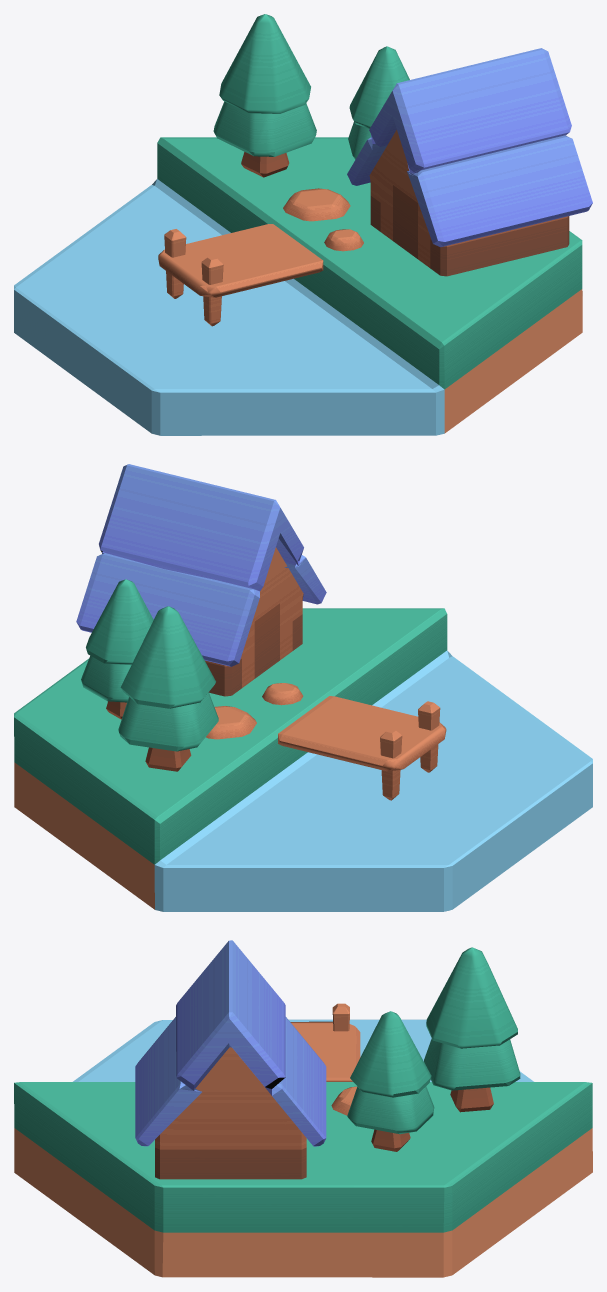
Rendered from kenney-hexagon__building-dock.glb.
3 renders of one model, top to bottom at view 1: azimuth 30°, elevation 25°; view 2: azimuth 150°, elevation 25°; view 3: azimuth 270°, elevation 25°, orthographic.
Visible parts, largest first — view 1: building-dock; view 2: building-dock; view 3: building-dock.
Part boxes in pixels (bbox=[...]): building-dock: bbox=[14, 14, 592, 435]; building-dock: bbox=[14, 464, 592, 911]; building-dock: bbox=[14, 940, 592, 1277].
Size of the model in its own units: 1 by 0.5731 by 1.14.
Materials: 1 (1 with a texture image).
